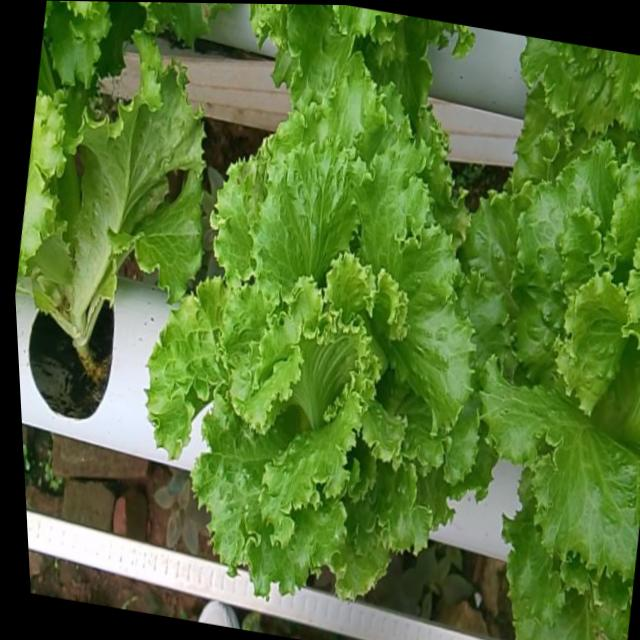Mature: (147, 87, 480, 613), (463, 151, 640, 599)
